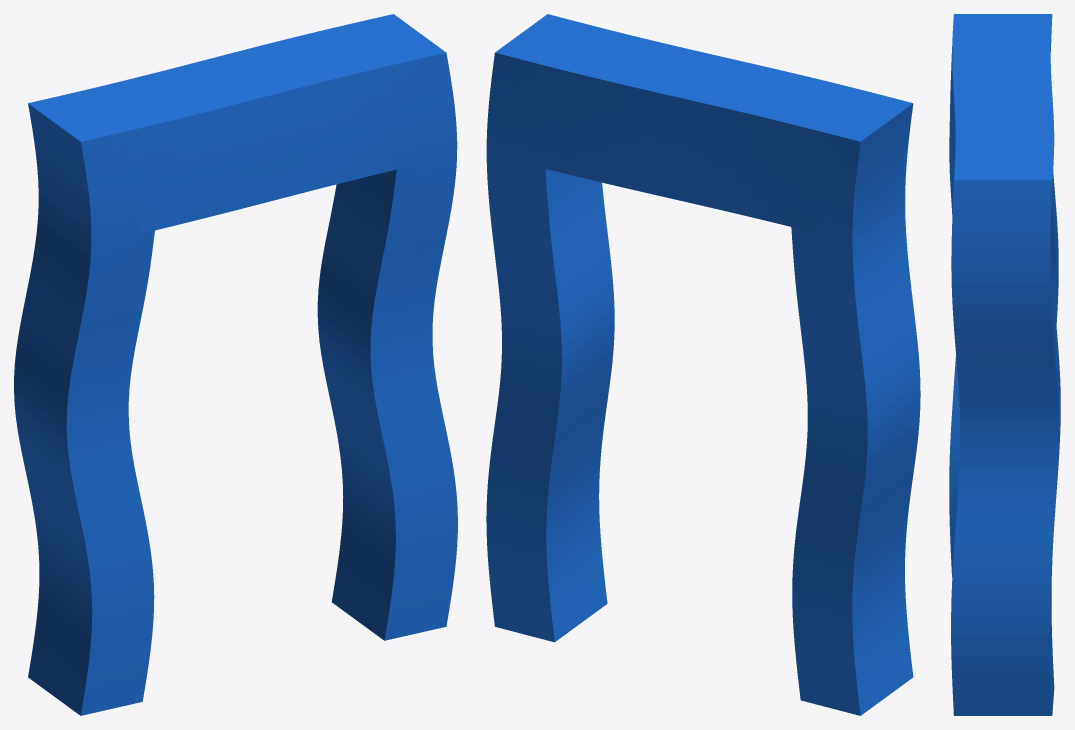
The model's file is DoorFrame.fbx.
3 views of the same model, side by side, from view 1: azimuth 30°, elevation 25°; view 2: azimuth 150°, elevation 25°; view 3: azimuth 270°, elevation 25° (orthographic). The views are drawn at different scales.
Parts seen in each view (by area): view 1: DoorFrame; view 2: DoorFrame; view 3: DoorFrame.
Part boxes in pixels (x1,y1,x2,y2): DoorFrame: [14, 14, 457, 715]; DoorFrame: [486, 14, 920, 715]; DoorFrame: [949, 14, 1060, 715].
Bounding box in the file's own units: 845 × 1200 × 227.
